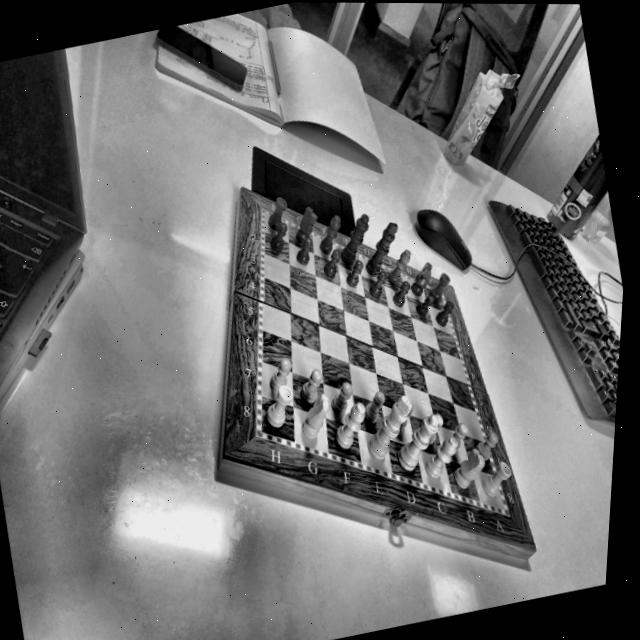black-bishop: (380, 247, 417, 285), (313, 213, 347, 252)
black-king: (357, 218, 405, 277)
black-knight: (289, 203, 323, 244), (407, 258, 435, 293)
black-pawn: (263, 220, 294, 257), (385, 277, 417, 311), (290, 234, 317, 270), (363, 268, 392, 301), (339, 257, 368, 289), (430, 297, 459, 329), (319, 246, 346, 279), (413, 291, 438, 322)
black-queen: (333, 213, 378, 267)
black-rook: (260, 191, 293, 231), (426, 271, 455, 300)
white-bishop: (327, 399, 368, 452), (422, 435, 462, 480)
white-king: (357, 392, 423, 465)
white-knight: (447, 439, 491, 489), (293, 393, 337, 439)
white-pawn: (292, 358, 327, 407), (469, 425, 504, 460), (262, 354, 296, 389), (358, 386, 389, 424), (327, 375, 356, 414), (445, 418, 473, 450)
white-queen: (390, 409, 448, 473)
white-rook: (256, 382, 302, 436), (479, 456, 516, 498)
